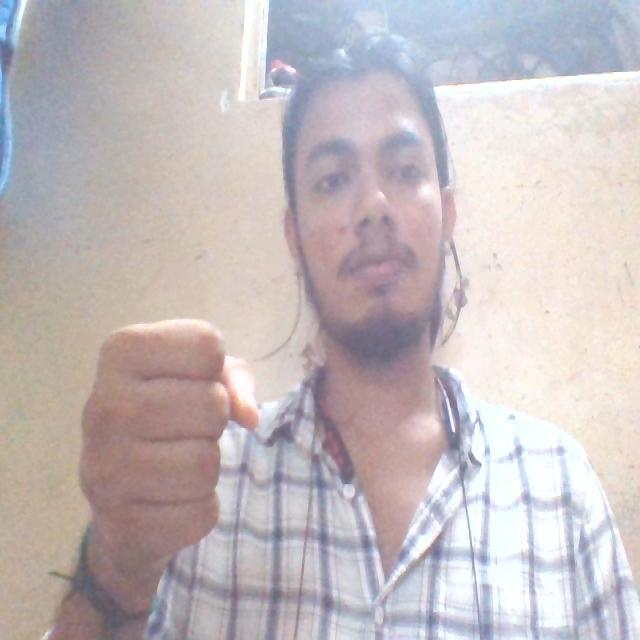No: (72, 305, 267, 570)
